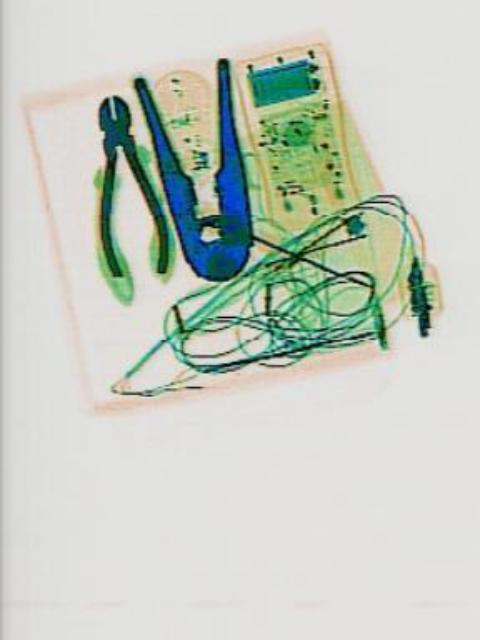Pliers: (132, 49, 268, 294), (75, 84, 171, 284)
